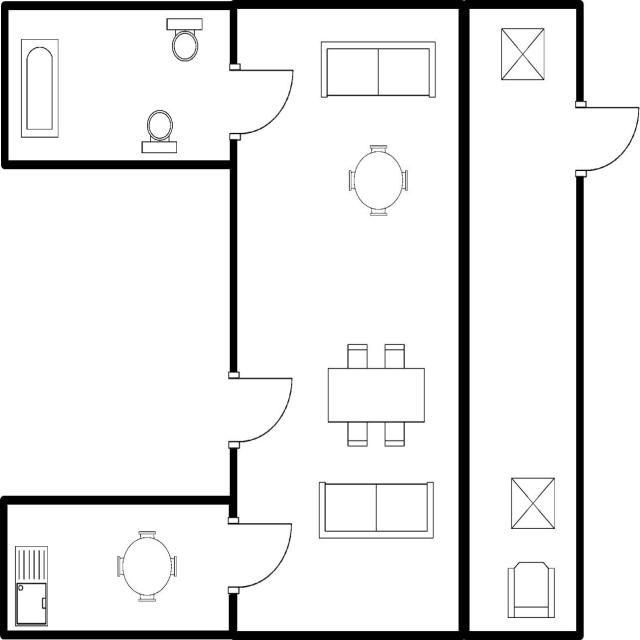armchair: (502, 556, 558, 624)
coffee_table: (498, 22, 550, 86), (506, 473, 558, 532)
dining_table: (324, 340, 428, 449)
large_sink: (137, 105, 182, 157), (163, 13, 208, 64)
large_sofa: (317, 36, 439, 102), (314, 478, 438, 542)
round_table: (342, 140, 412, 220), (114, 526, 181, 606)
sink: (11, 541, 50, 630)
tub: (17, 35, 62, 142)
